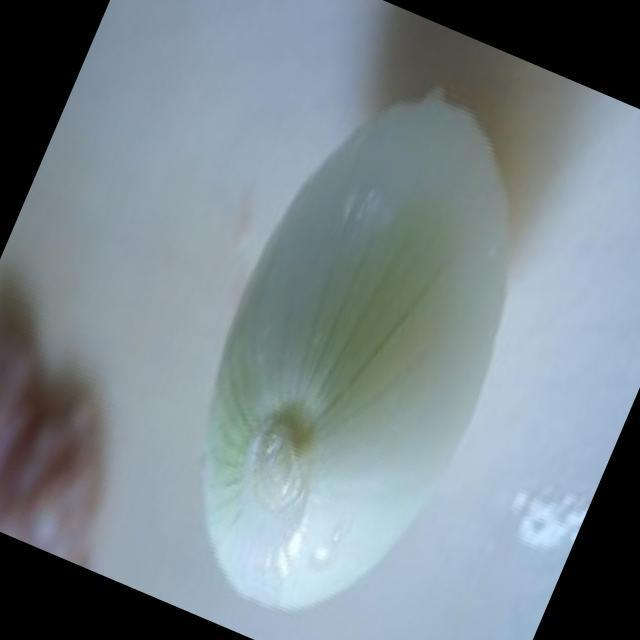Onion: (204, 100, 505, 609)
